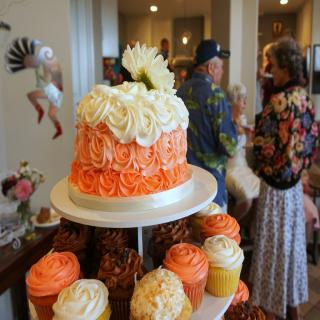Cake: (64, 37, 194, 198), (26, 249, 80, 320), (159, 242, 210, 316), (96, 245, 146, 318), (128, 264, 192, 320), (197, 232, 244, 300), (51, 270, 112, 320), (48, 211, 92, 275), (145, 218, 191, 266), (86, 222, 136, 257), (202, 207, 244, 242), (184, 200, 219, 239), (221, 298, 264, 320), (225, 280, 251, 304)
Muffin: (26, 201, 244, 319), (225, 299, 266, 320), (226, 278, 250, 312)
